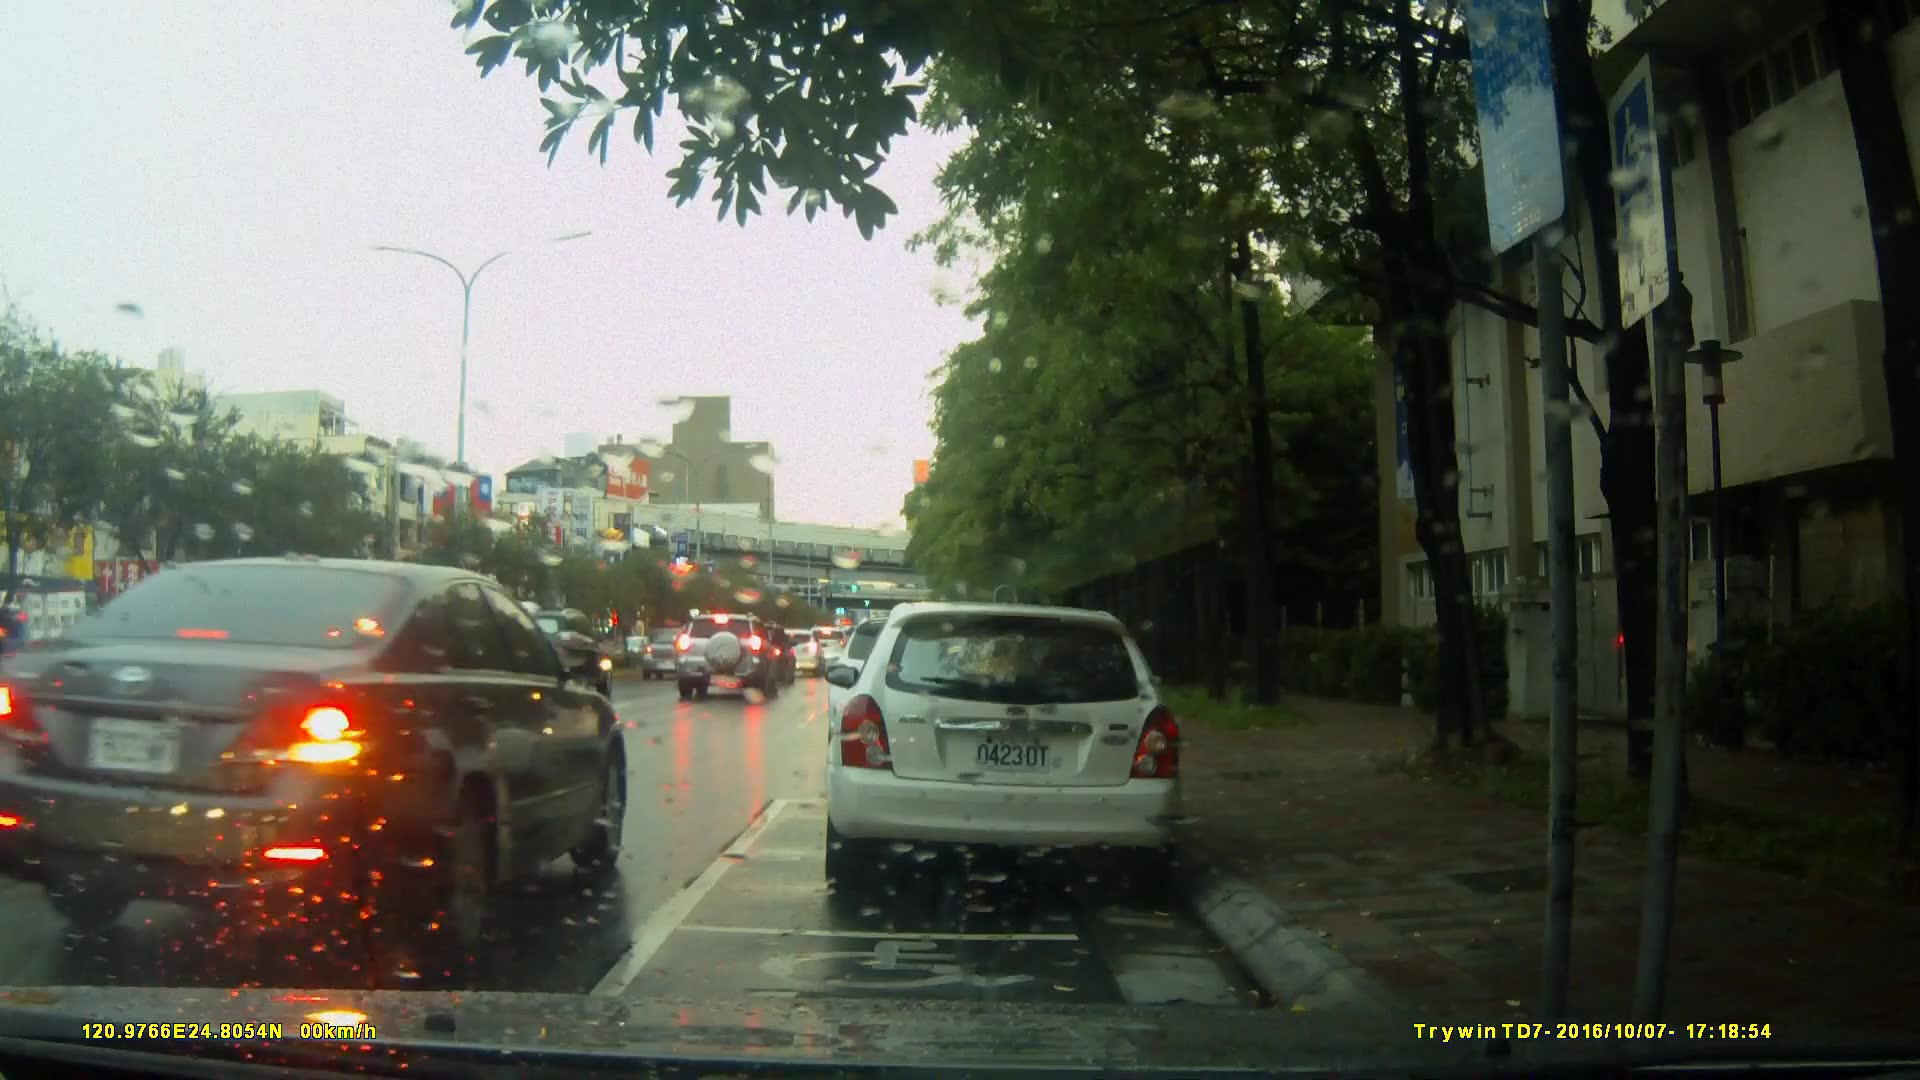vehicle: (7, 553, 633, 959), (820, 603, 1188, 898), (676, 613, 778, 703)
